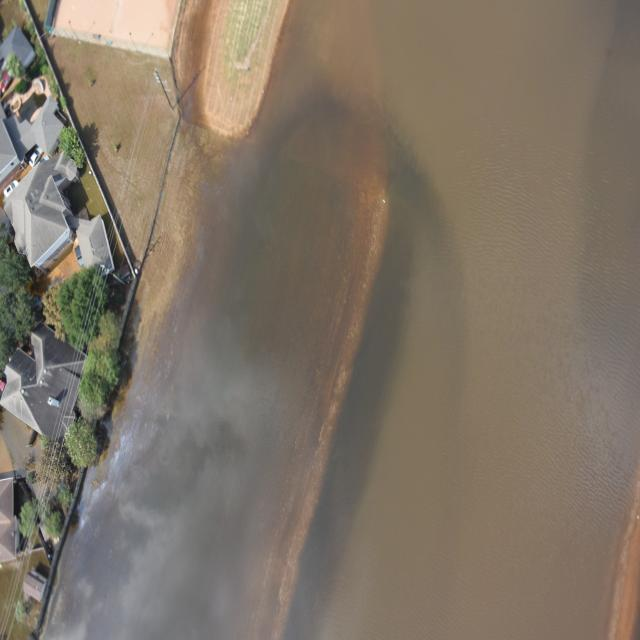fire: (44, 1, 640, 638)
